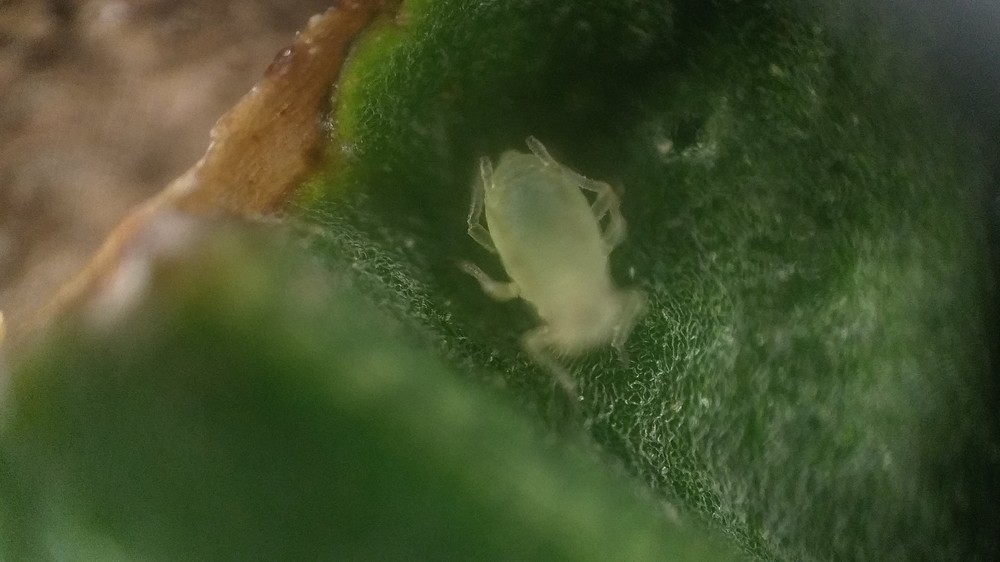Pulgon: (428, 133, 676, 419)
